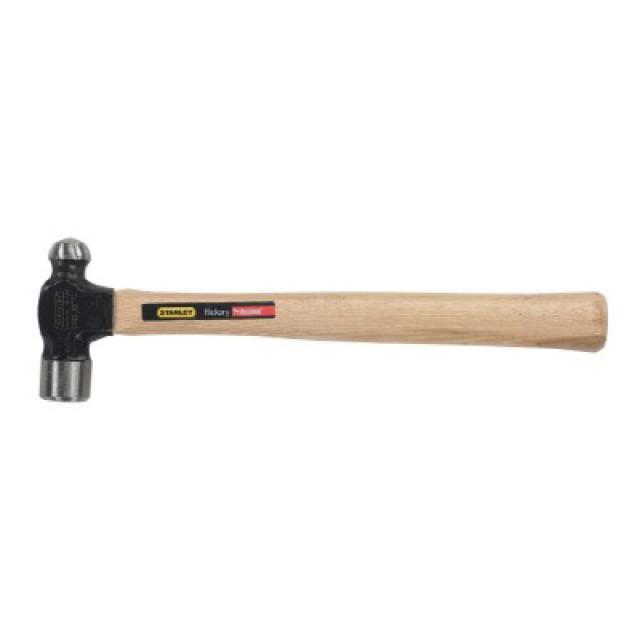hammer: (14, 195, 640, 466)
